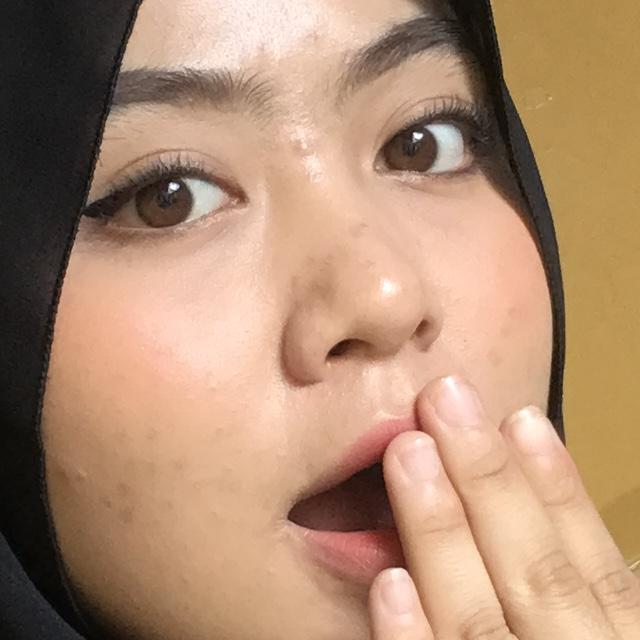ngantuk: (335, 321, 640, 640)
